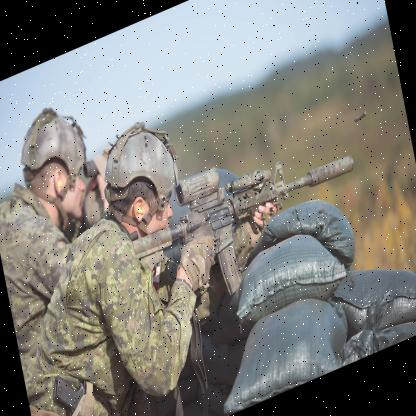rifle: (121, 112, 370, 326)
